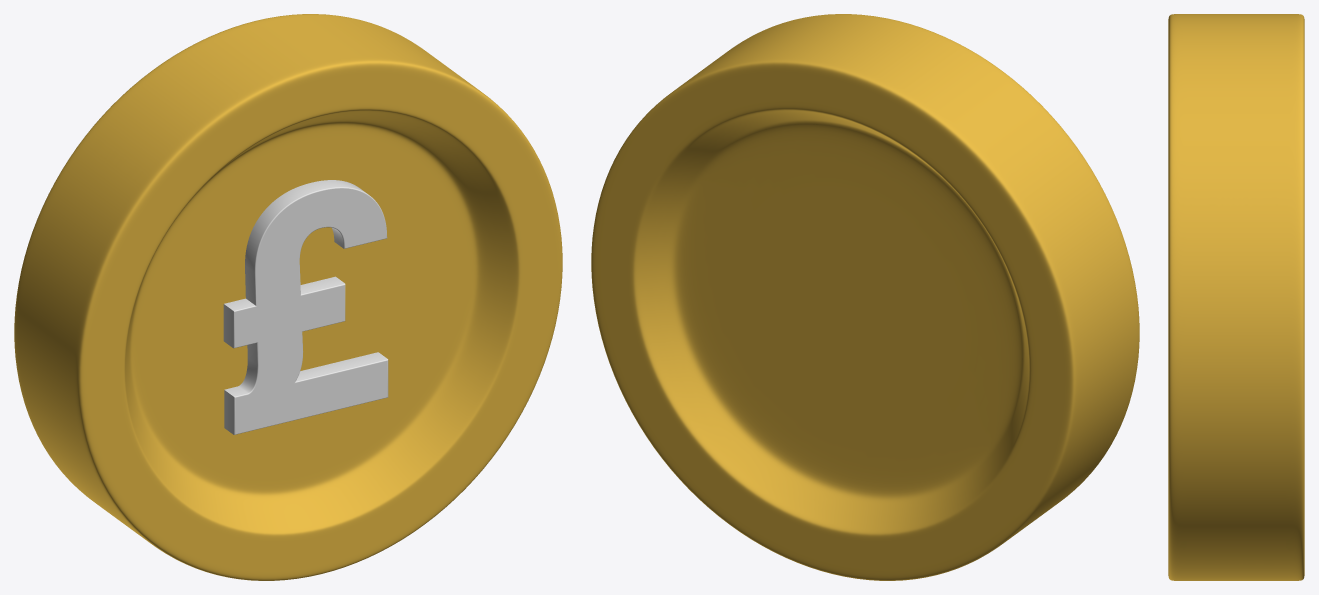
File: pound.glb
3 renders of one model, left to right at view 1: azimuth 30°, elevation 25°; view 2: azimuth 150°, elevation 25°; view 3: azimuth 270°, elevation 25°, orthographic.
Parts seen in each view (by area): view 1: Pound; view 2: Pound; view 3: Pound.
Boxes of the visible parts, left/top/right/bottom form: Pound: left=14, top=14, right=562, bottom=580; Pound: left=591, top=14, right=1139, bottom=580; Pound: left=1168, top=14, right=1304, bottom=580.
Size of the model in its own units: 1.86 by 1.86 by 0.448.
